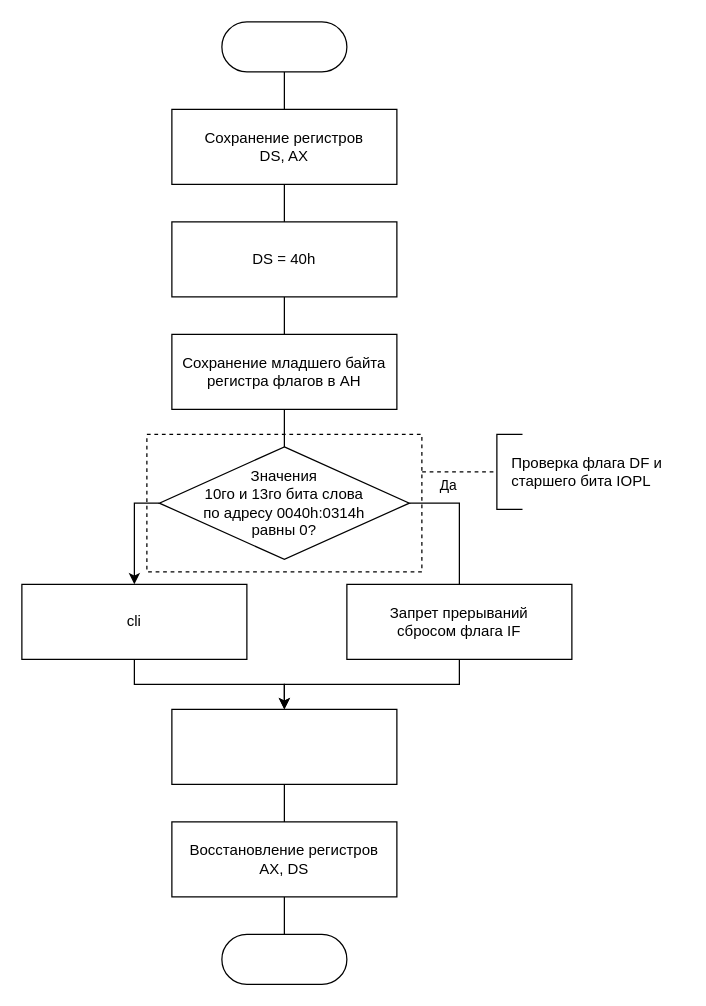
The diagram is 706 pixels wide and 1006 high, and some of its shapes have lost their labels. Here are the shapes that lost their labels. From the top down, the centre of each, then its label:
the point at 284,46: Начало
the point at 284,746: Загрузка младшего байта флагов FLAGS из AH
the point at 284,958: Конец
